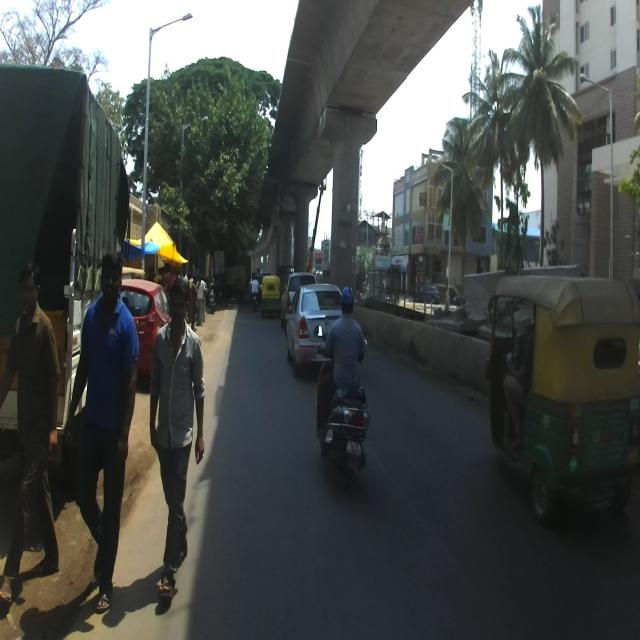autorickshaw: (485, 275, 640, 525)
car: (105, 274, 171, 389), (283, 283, 343, 377), (281, 272, 319, 332)
scooter: (314, 323, 370, 492)
truck: (0, 64, 132, 498)
